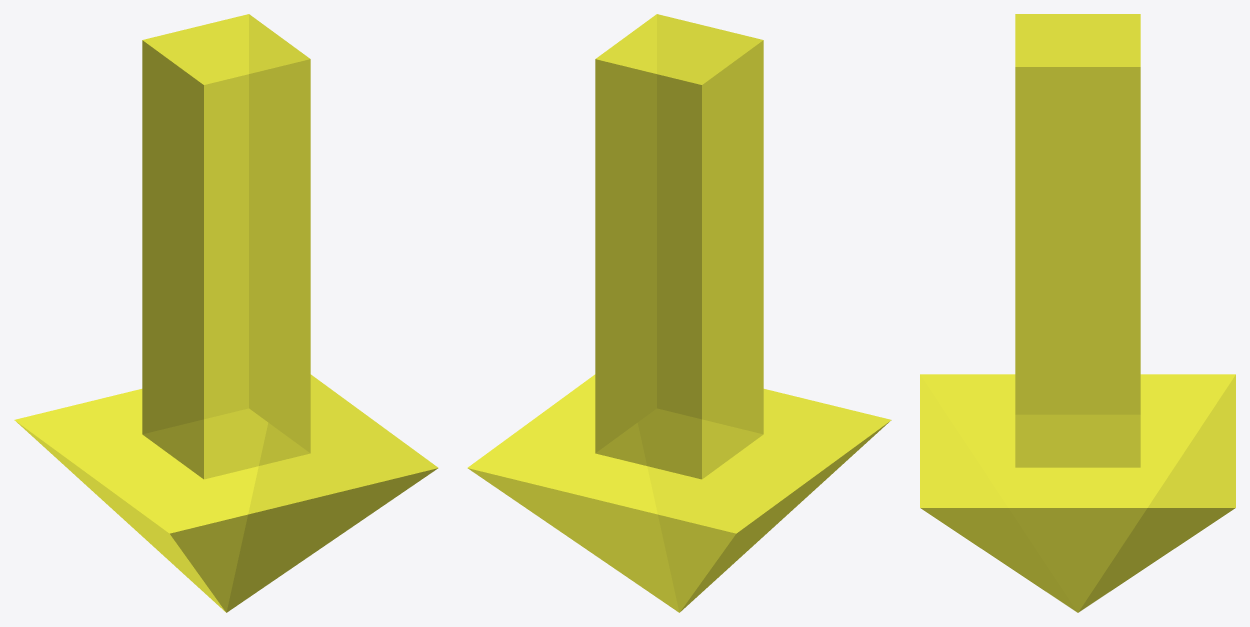
Rendered from selection_indicator.dae.
3 renders of one model, left to right at view 1: azimuth 30°, elevation 25°; view 2: azimuth 150°, elevation 25°; view 3: azimuth 270°, elevation 25°, orthographic.
Visible parts, largest first — view 1: SketchUp (×2); view 2: SketchUp (×2); view 3: SketchUp (×2).
Boxes of the visible parts, x1=… form: SketchUp (×2): x1=14, y1=14, x2=438, y2=612; SketchUp (×2): x1=467, y1=14, x2=891, y2=612; SketchUp (×2): x1=920, y1=14, x2=1235, y2=612.
Bounding box in the file's own units: 19.69 × 19.69 × 39.37.
